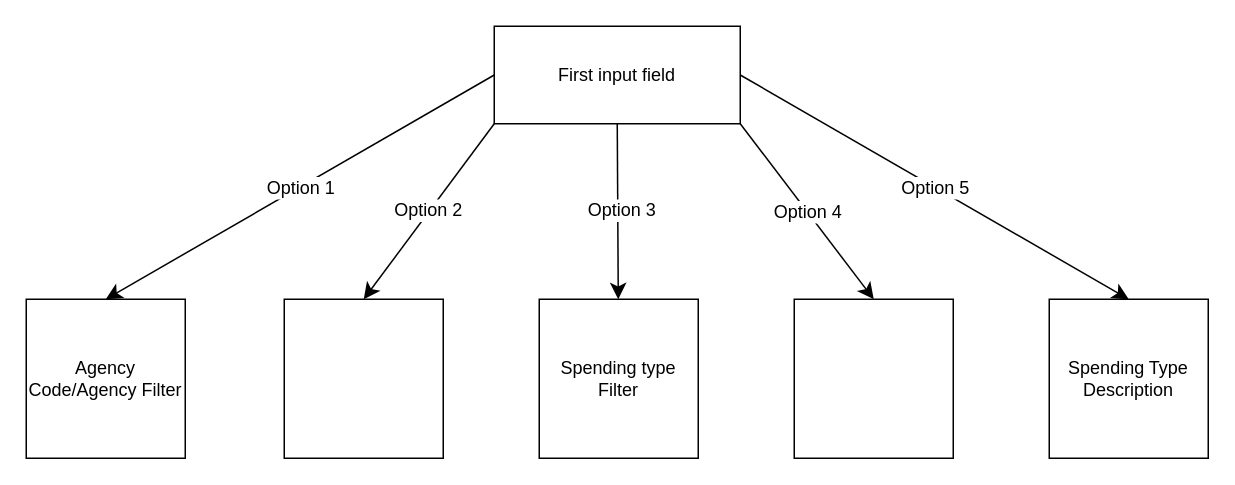
Image size: 1235x485. Some labels were removed from this diagram. The box of each missing label's shape, as (x1, y1, x2, y2) in pixels:
Budget Function: (793, 298, 953, 458)
Row id (spending, funding, headcount): (283, 298, 443, 458)
